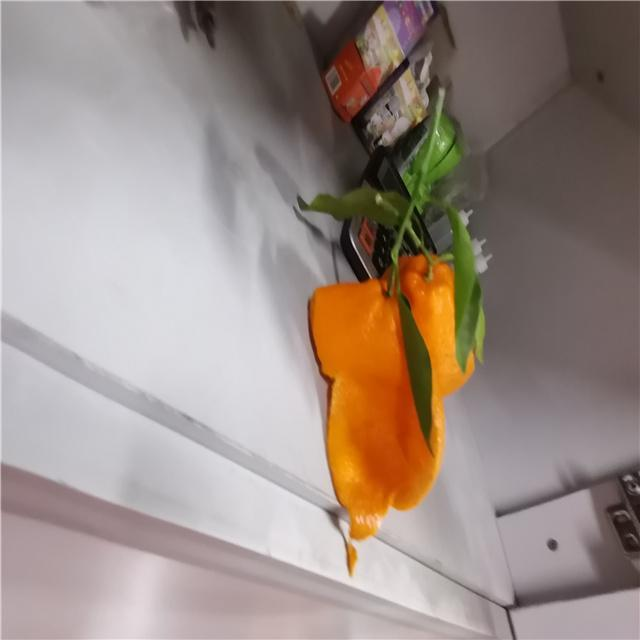orange-peel: (305, 251, 477, 540)
